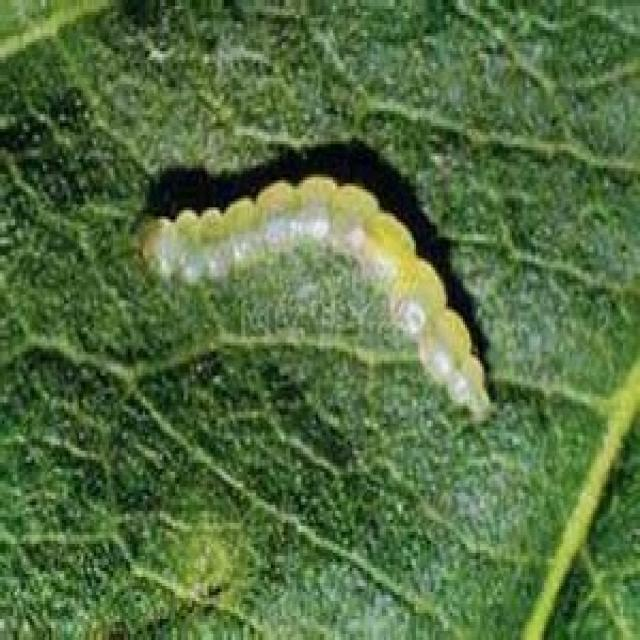peach borer: (136, 160, 497, 425)
